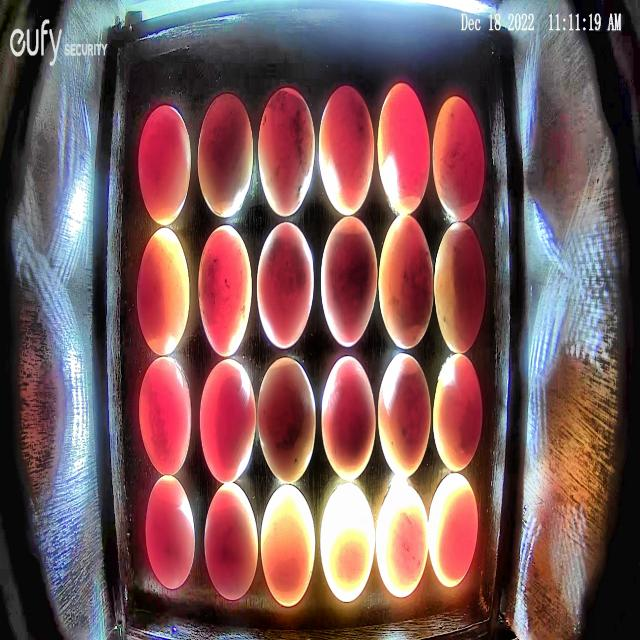DE: (376, 482, 429, 600), (428, 473, 478, 588)
FE: (320, 216, 378, 348), (378, 214, 434, 350), (258, 356, 316, 486), (257, 221, 315, 349), (198, 357, 256, 484), (259, 86, 315, 217), (318, 85, 374, 216), (198, 225, 252, 357), (198, 93, 254, 219), (377, 82, 430, 215), (321, 354, 376, 482), (377, 352, 432, 480), (136, 228, 190, 356), (434, 222, 486, 354), (432, 96, 484, 222), (204, 482, 258, 602), (138, 104, 191, 226), (139, 355, 192, 477), (432, 354, 482, 473), (145, 475, 195, 590)
UF: (260, 484, 316, 608), (319, 481, 375, 603)
